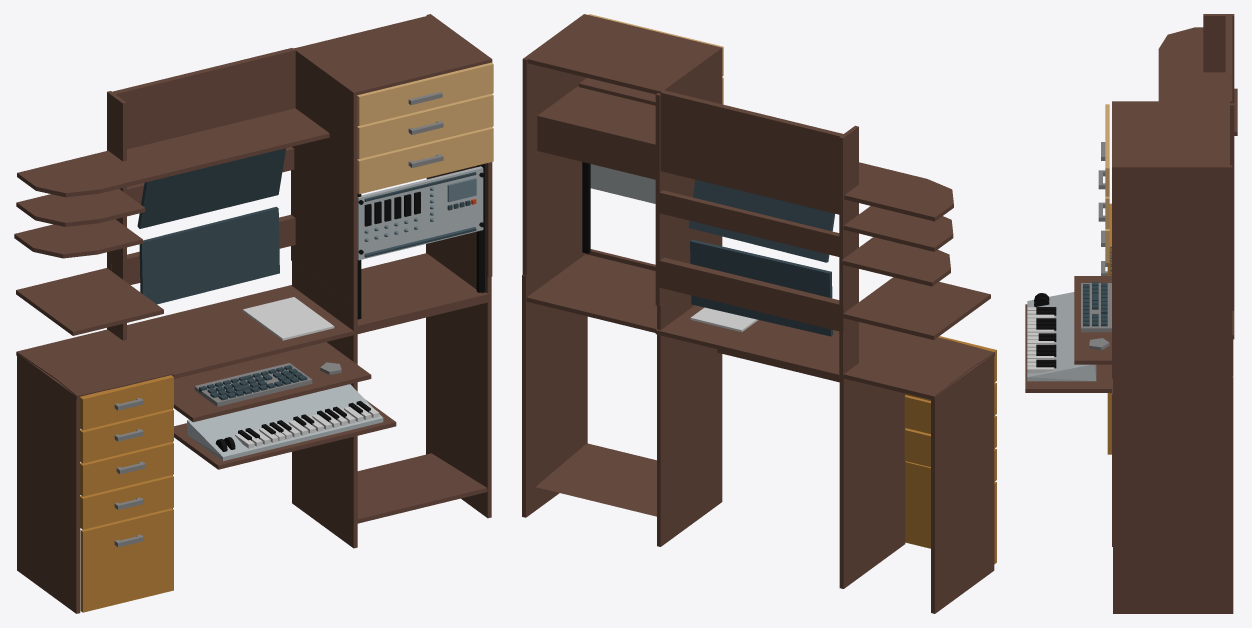
3 views of the same model, side by side, from view 1: azimuth 30°, elevation 25°; view 2: azimuth 150°, elevation 25°; view 3: azimuth 270°, elevation 25° (orthographic). The views are drawn at different scales.
Parts seen in each view (by area): view 1: node_MeshObject1569867776-PolyPaper21, node_MeshObject-1546795008-PolyPaper22; view 2: node_MeshObject1569867776-PolyPaper21, node_MeshObject-1546795008-PolyPaper22; view 3: node_MeshObject1569867776-PolyPaper21.
Boxes of the visible parts, x1=… form: node_MeshObject1569867776-PolyPaper21: x1=14, y1=14, x2=493, y2=613; node_MeshObject-1546795008-PolyPaper22: x1=114, y1=166, x2=487, y2=547; node_MeshObject1569867776-PolyPaper21: x1=522, y1=14, x2=996, y2=613; node_MeshObject-1546795008-PolyPaper22: x1=536, y1=164, x2=656, y2=516; node_MeshObject1569867776-PolyPaper21: x1=1025, y1=14, x2=1237, y2=613.
Bounding box in the file's own units: 2.09 × 2.22 × 0.955.
